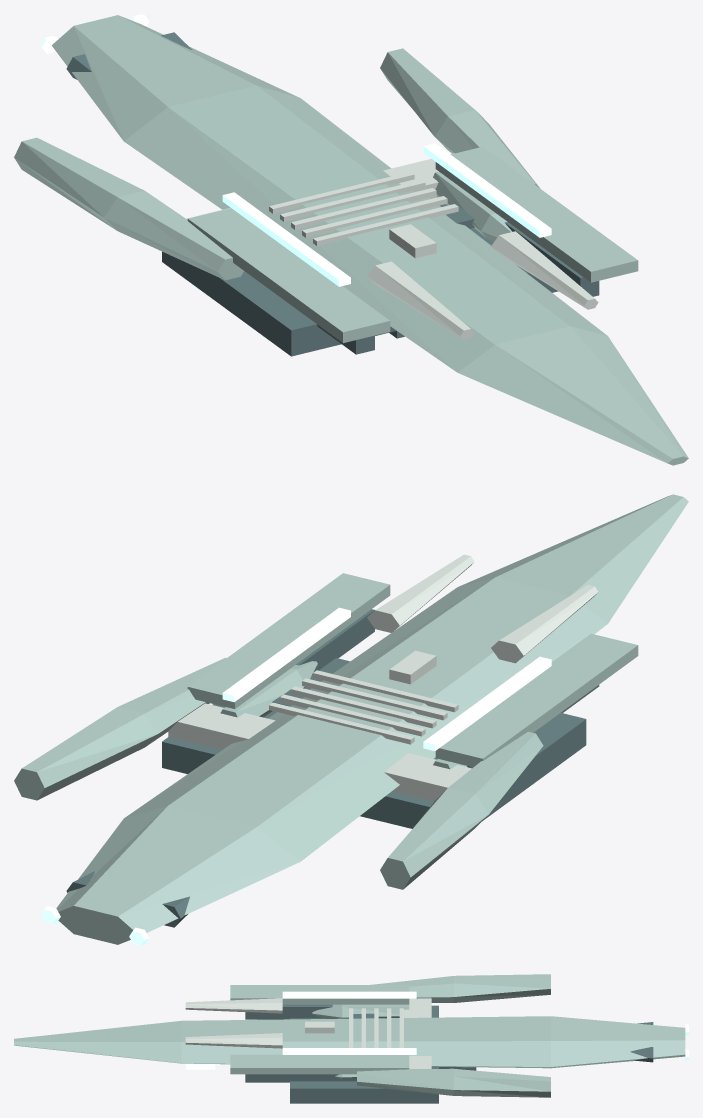
The picture shows the model from 3 angles, top to bottom: view 1: azimuth 30°, elevation 25°; view 2: azimuth 150°, elevation 25°; view 3: azimuth 270°, elevation 25°; orthographic projection. The views are drawn at different scales.
Bounding box in the file's own units: 8 × 1.76 × 20.45.
